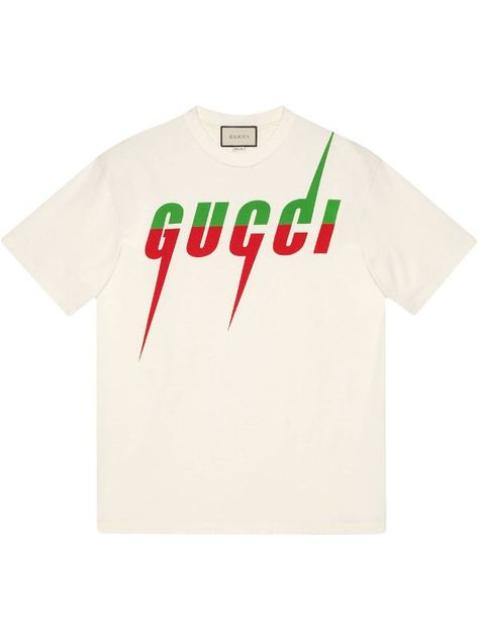Gucci: (129, 132, 351, 362), (224, 127, 256, 145)
